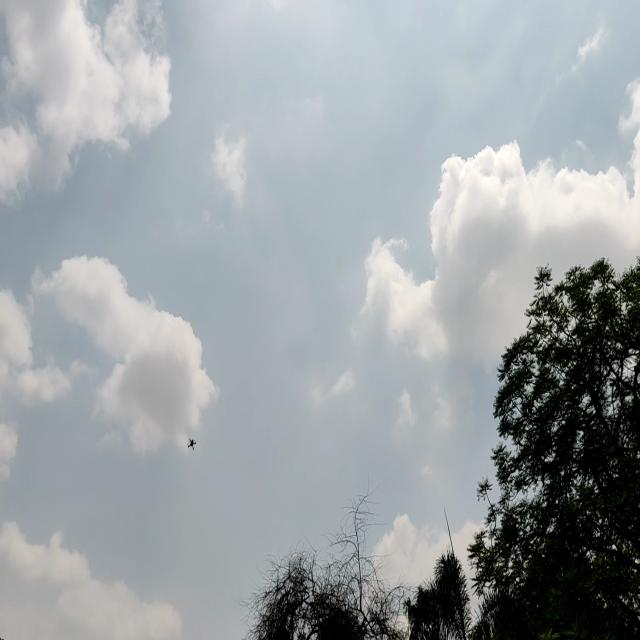drone: (181, 428, 201, 455)
